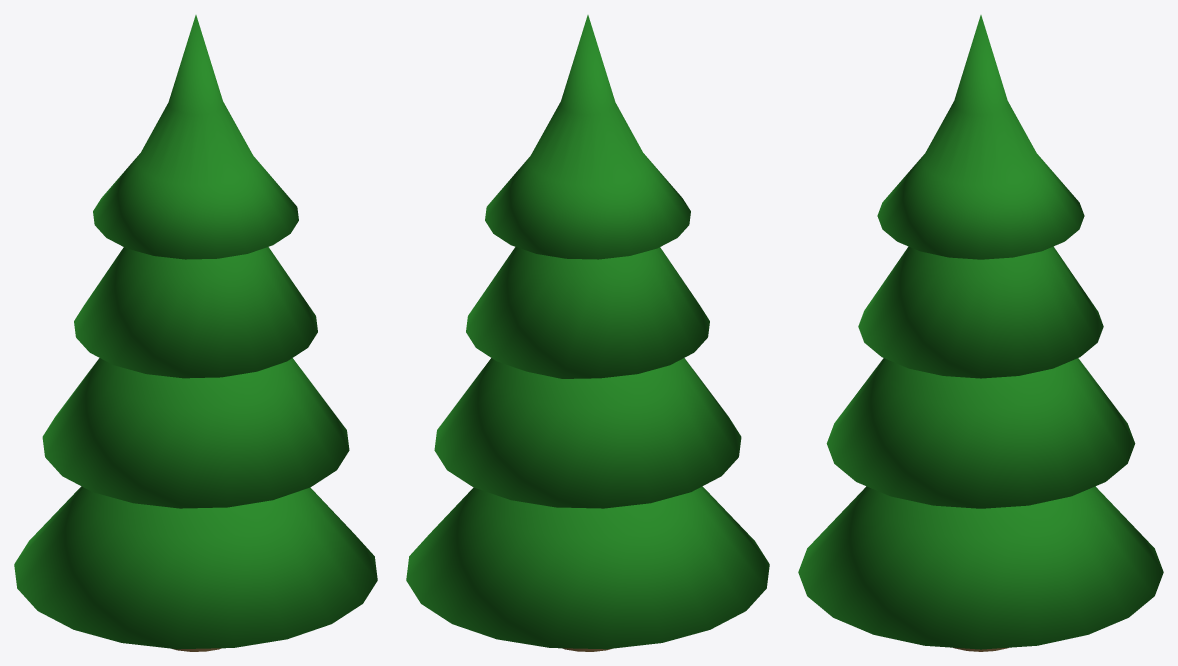
Rendered from Medium_Tree.fbx.
The picture shows the model from 3 angles, left to right: view 1: azimuth 30°, elevation 25°; view 2: azimuth 150°, elevation 25°; view 3: azimuth 270°, elevation 25°; orthographic projection.
Parts seen in each view (by area): view 1: Medium_Tree; view 2: Medium_Tree; view 3: Medium_Tree.
Part boxes in pixels (box(x1,y1,x2,y2)): Medium_Tree: box(14, 15, 377, 651); Medium_Tree: box(406, 15, 769, 651); Medium_Tree: box(798, 15, 1163, 651).
Size of the model in its own units: 1.7 by 3.17 by 1.7.
